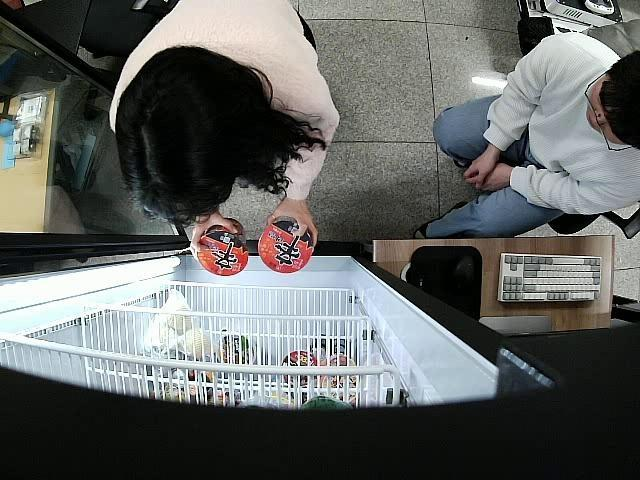01_ShinRamen_L: (193, 218, 250, 277), (257, 216, 314, 275)
